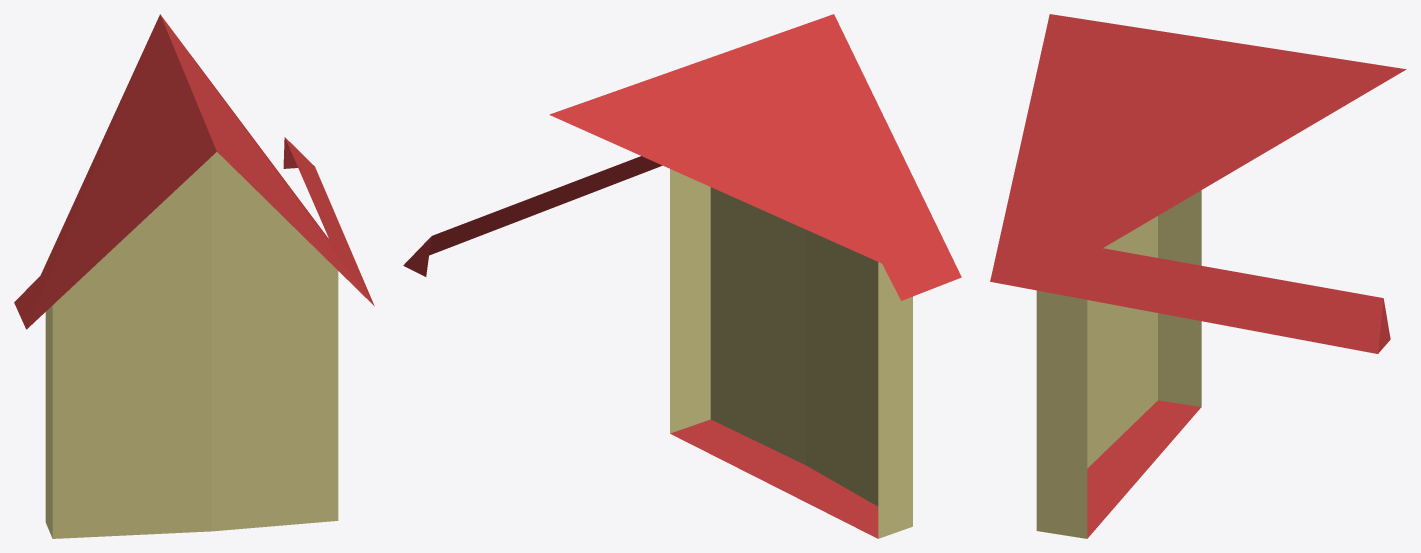
3 views of the same model, side by side, from view 1: azimuth 30°, elevation 25°; view 2: azimuth 150°, elevation 25°; view 3: azimuth 270°, elevation 25° (orthographic). The views are drawn at different scales.
Size of the model in its own units: 10.62 by 8.48 by 10.15.
